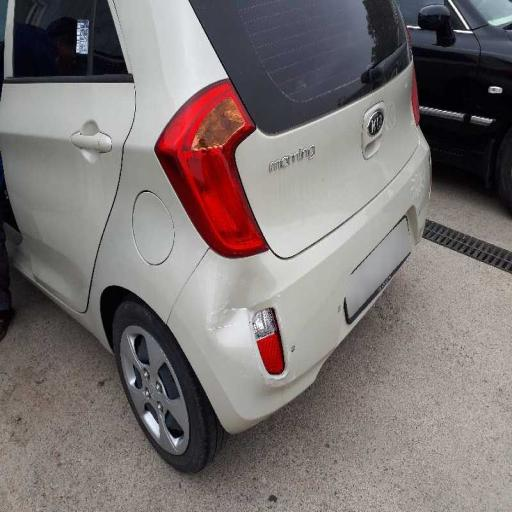dent: (192, 254, 278, 380)
